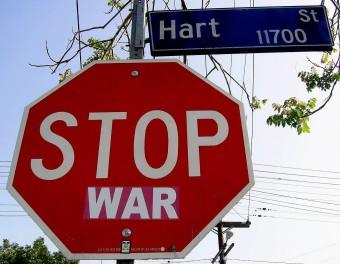SS: (11, 62, 255, 257)
